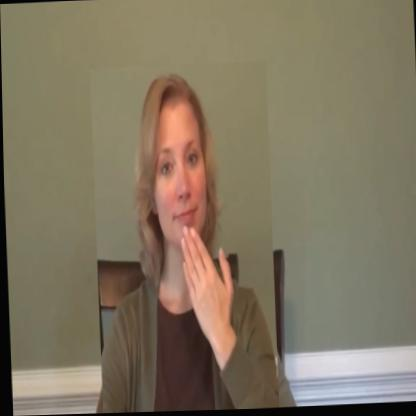ThankYou: (88, 62, 276, 414)
